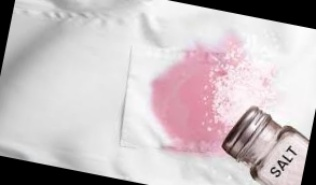wine: (149, 42, 224, 147), (169, 118, 228, 160)
